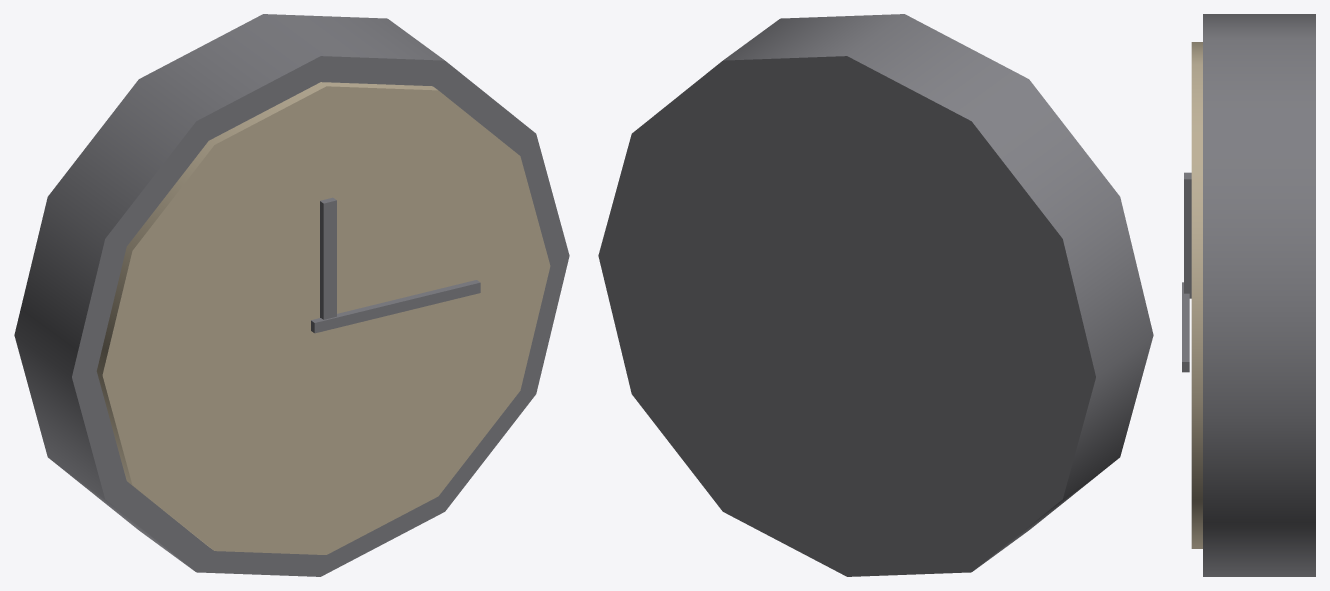
Rendered from PRP_P2_Clock_Wall_A.obj.
3 renders of one model, left to right at view 1: azimuth 30°, elevation 25°; view 2: azimuth 150°, elevation 25°; view 3: azimuth 270°, elevation 25°, orthographic.
Visible parts, largest first — view 1: face, case_body, hand_minute, hand_hour; view 2: case_body; view 3: case_body, face, hand_hour, hand_minute.
Boxes of the visible parts, x1,y1,x2,y2 form: face: [96, 82, 550, 554]; case_body: [14, 14, 569, 576]; hand_minute: [311, 280, 480, 333]; hand_hour: [320, 197, 336, 319]; case_body: [598, 14, 1153, 576]; case_body: [1203, 14, 1315, 576]; face: [1191, 42, 1202, 548]; hand_hour: [1184, 172, 1191, 298]; hand_minute: [1182, 282, 1189, 372].
Bounding box in the file's own units: 0.3 × 0.3 × 0.071.
